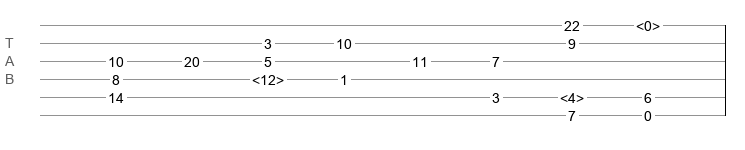0: (644, 108, 652, 118)
1: (340, 72, 348, 82)
10: (108, 54, 124, 64), (336, 36, 352, 46)
11: (412, 54, 428, 64)
14: (108, 90, 124, 100)
20: (184, 54, 200, 64)
22: (564, 18, 580, 28)
3: (264, 36, 272, 46), (492, 90, 500, 100)
5: (264, 54, 272, 64)
6: (644, 90, 652, 100)
7: (492, 54, 500, 64), (568, 108, 576, 118)
8: (112, 72, 120, 82)
9: (568, 36, 576, 46)
harmonic: (252, 72, 284, 82), (560, 90, 584, 100), (636, 18, 660, 28)
